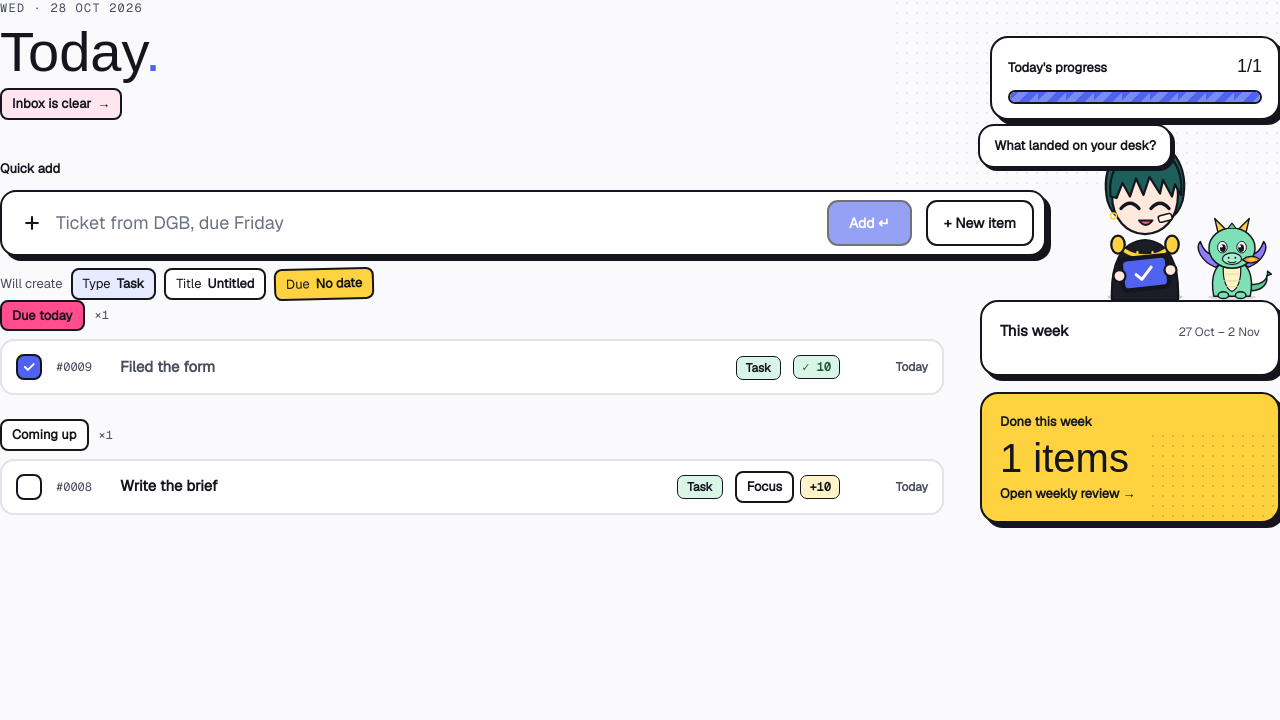
Scenario: Today focus › offers preset bonuses from rules.focus.bonuses on open rows only
Click the button with aria-label "Focus Write the brief": (765, 486) [735,470,794,502]
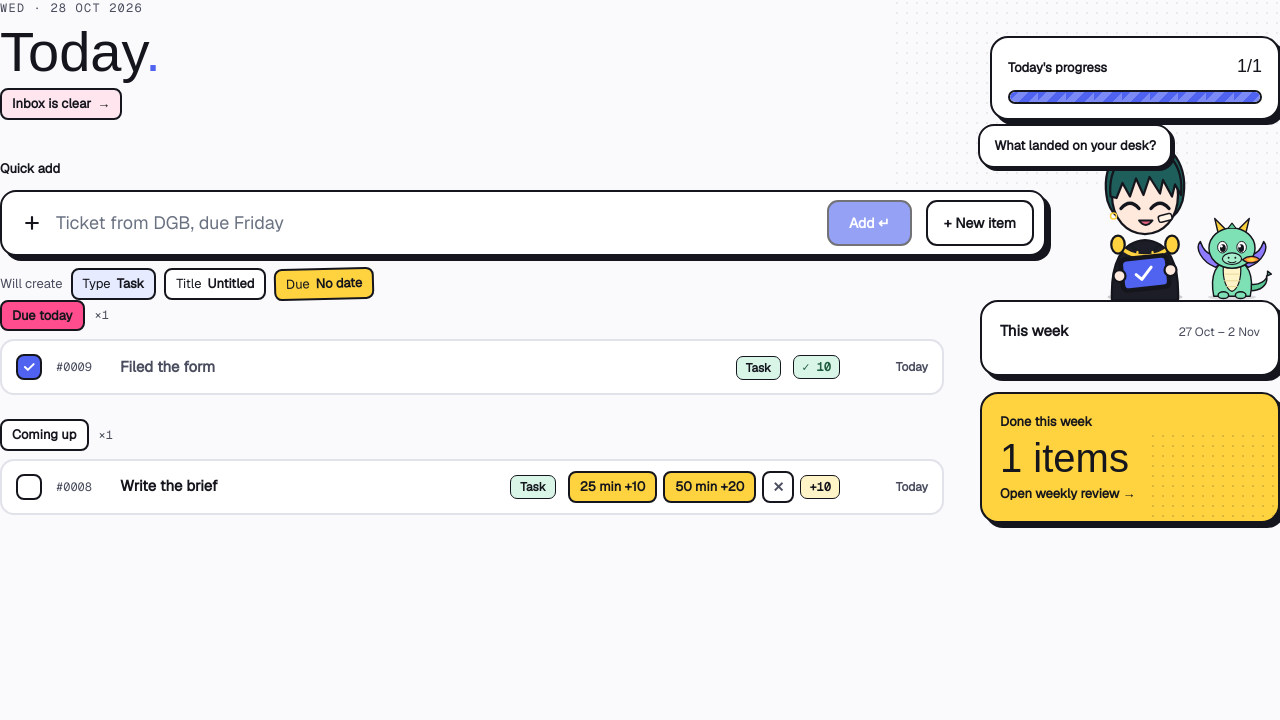
Expected: the button "25 min +10" is shown
Expected: the button "50 min +20" is shown, [663,470,756,502]
Click the button "25 min +10": (613, 486) [568,470,657,502]
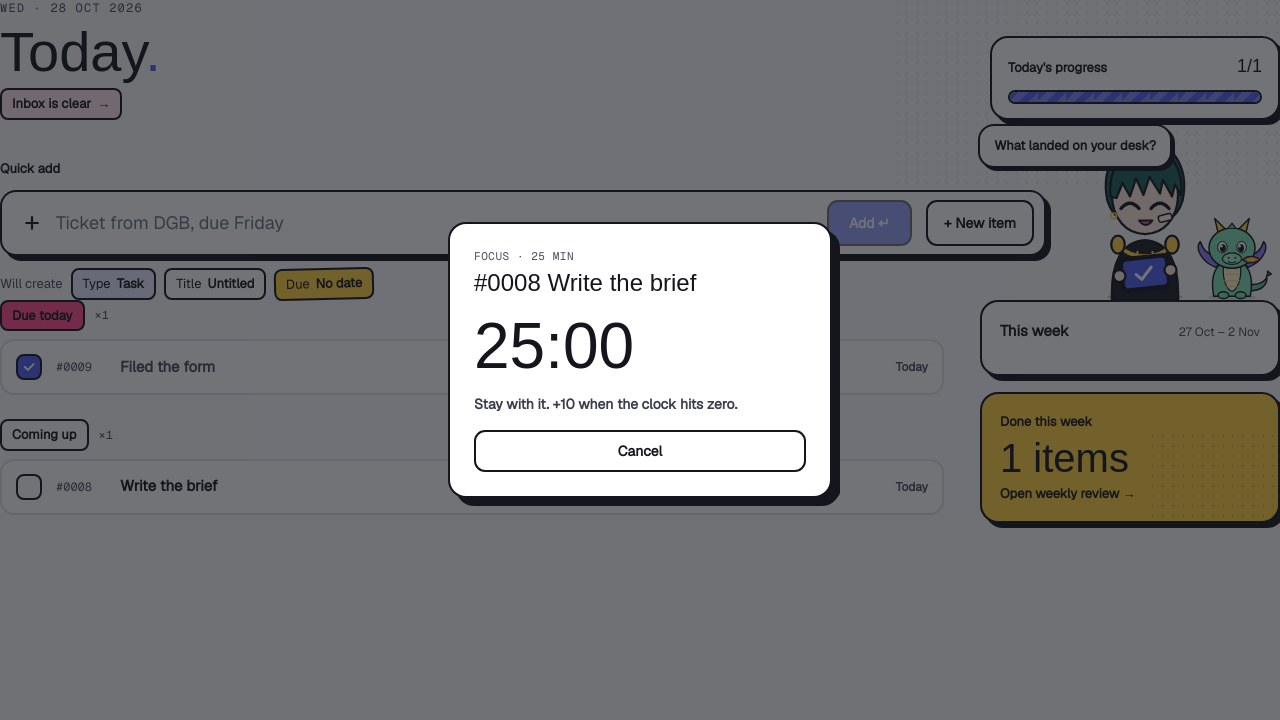
Expected: the dialog is shown, [448,222,832,498]
